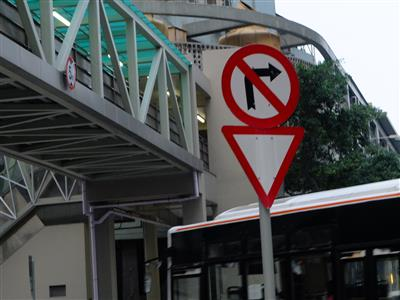5mHeightLimit: (63, 54, 79, 90)
noRightTurn: (220, 42, 300, 129)
yield: (218, 123, 305, 210)
